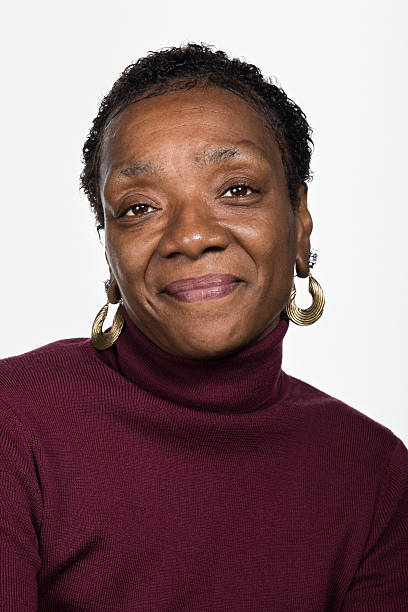face: (105, 124, 288, 356)
